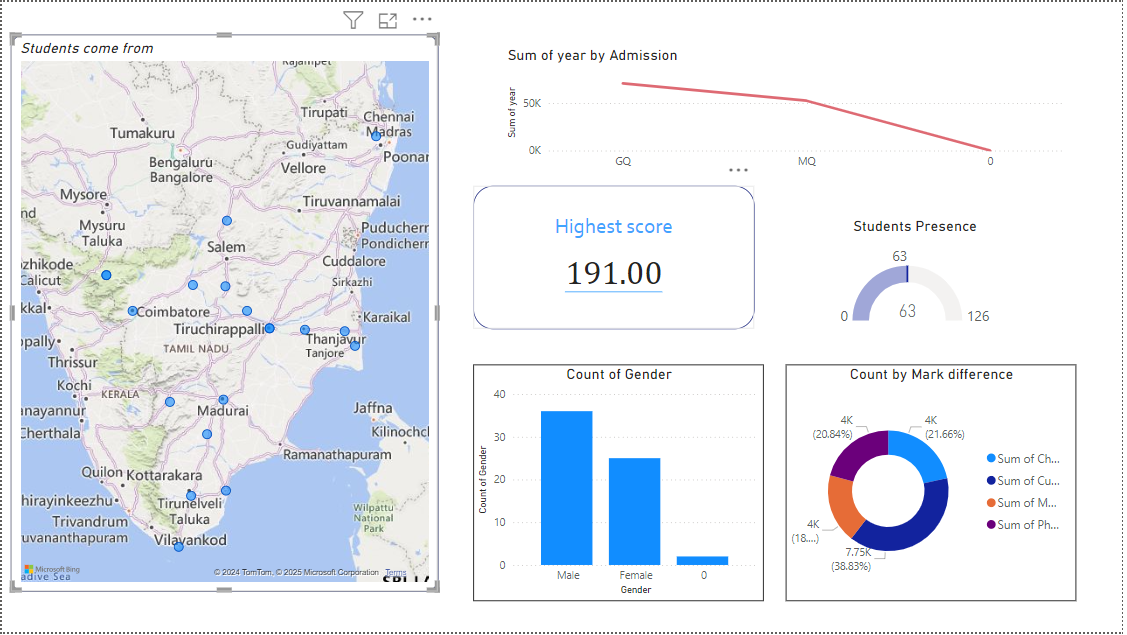

Layout of this report page (visuals, bound fields, positions):
{"tool":"powerbi","page":{"name":"Page 1","canvas":[1280,720],"ordinal":0},"visuals":[{"type":"donutChart","title":"Count by Mark difference ","fields":{"Y":["Sum(Sheet1 (3).Chemistry)","Sum(Sheet1 (3).Cut off)","Sum(Sheet1 (3).Maths)","Sum(Sheet1 (3).Physics)"]},"box":[896.1,414.4,332.1,270.3],"z":0},{"type":"columnChart","title":"Count of Gender ","fields":{"Y":["CountNonNull(Sheet1 (3).Gender)"],"Category":["Sheet1 (3).Gender"]},"box":[539.3,414.4,332.1,270.3],"z":1},{"type":"map","title":"Students come from ","fields":{"Category":["Sheet1 (3).District"]},"box":[10,37.1,488.6,637.1],"z":4},{"type":"gauge","title":"Students Presence","fields":{"Y":["CountNonNull(Sheet1 (3).Name)"],"TargetValue":["CountNonNull(Sheet1 (3).Admission)"]},"box":[860,245.7,367.1,128.6],"z":5},{"type":"lineChart","fields":{"Y":["Sum(Sheet1 (3).year)"],"Category":["Sheet1 (3).Admission"]},"box":[572.9,50,645.7,150],"z":6},{"type":"textbox","box":[538.6,210,321.4,164.3],"z":7}]}

Visuals, with their boxes in screenshot pixels (x1, y1, x2, y2), scaled from the page's 1280x720 canvas onto the 1127x635 screenshot:
"Count by Mark difference " donutChart: pyautogui.locateOnScreen(789, 365, 1081, 604)
"Count of Gender " columnChart: pyautogui.locateOnScreen(475, 365, 767, 604)
"Students come from " map: pyautogui.locateOnScreen(9, 33, 439, 595)
"Students Presence" gauge: pyautogui.locateOnScreen(757, 217, 1080, 330)
lineChart - Sum(Sheet1 (3).year) x Sheet1 (3).Admission: pyautogui.locateOnScreen(504, 44, 1073, 176)
textbox: pyautogui.locateOnScreen(474, 185, 757, 330)
